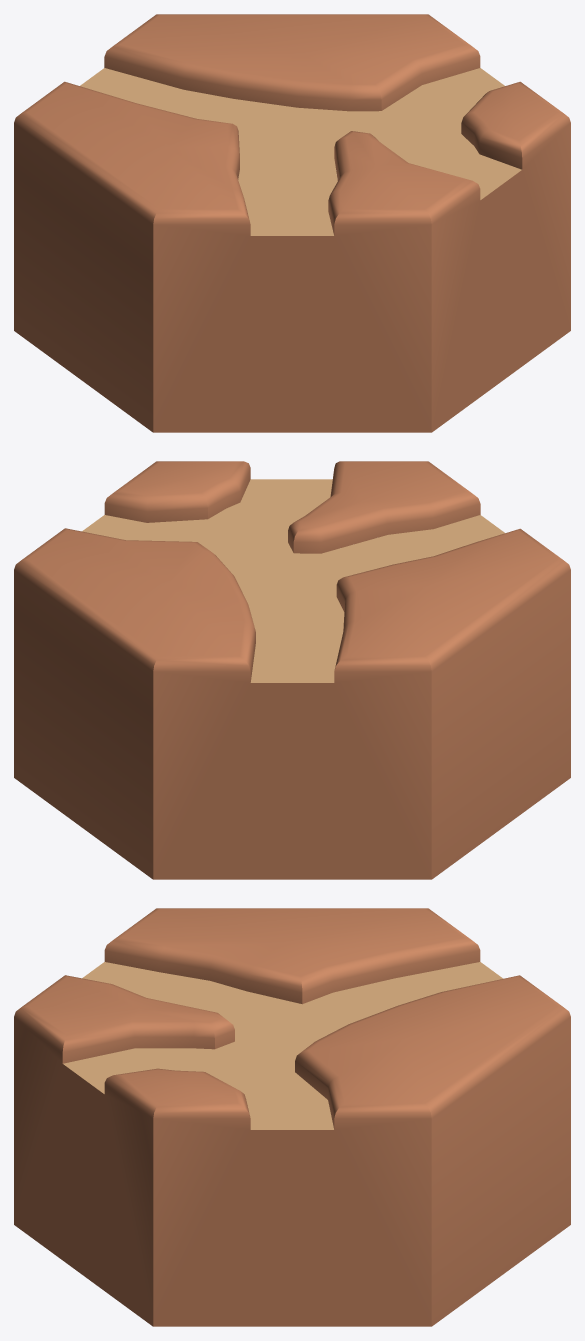
Rendered from kaykit-hex-rock-roadi.glb.
3 views of the same model, one above another, from view 1: azimuth 30°, elevation 25°; view 2: azimuth 150°, elevation 25°; view 3: azimuth 270°, elevation 25° (orthographic).
Visible parts, largest first — view 1: hex_rock_roadI; view 2: hex_rock_roadI; view 3: hex_rock_roadI.
Boxes of the visible parts, <box> form: hex_rock_roadI: <box>14,14,570,432</box>; hex_rock_roadI: <box>14,461,570,879</box>; hex_rock_roadI: <box>14,908,570,1326</box>.
Size of the model in its own units: 2 by 1 by 2.31.
